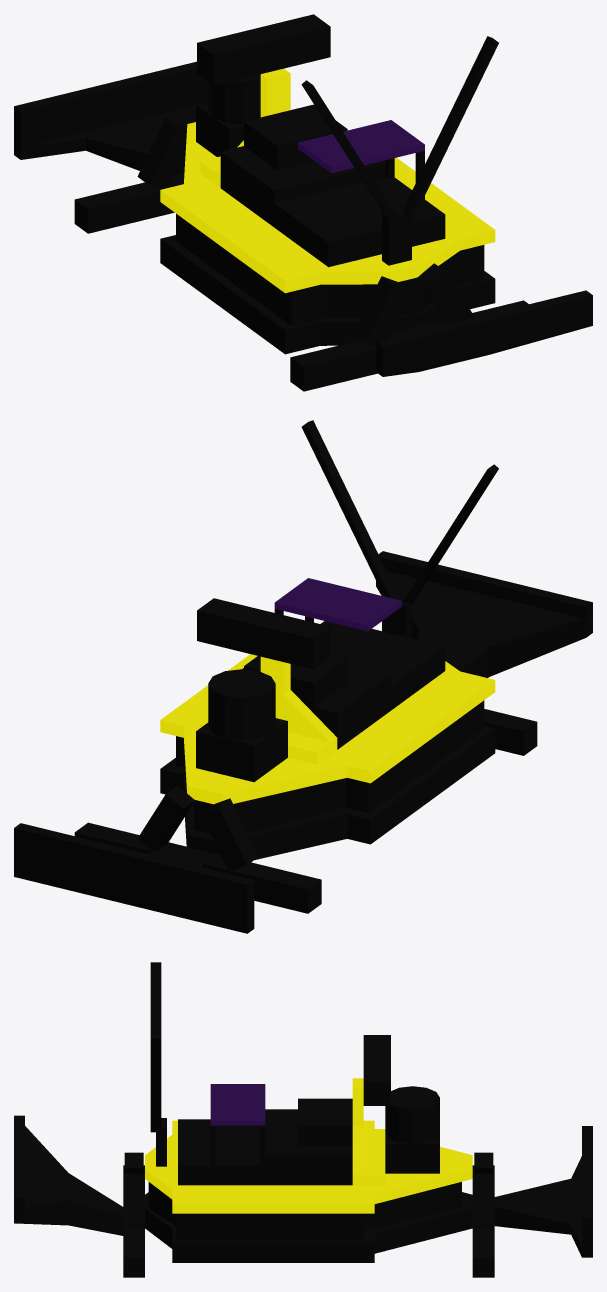
File: YellowCar.dae
The picture shows the model from 3 angles, top to bottom: view 1: azimuth 30°, elevation 25°; view 2: azimuth 150°, elevation 25°; view 3: azimuth 270°, elevation 25°; orthographic projection. The views are drawn at different scales.
Parts seen in each view (by area): view 1: Top Base Plate, VESC, Extension, Middle Plate, Bottom Base Plate, Camera, Cube, Bottom Piece, Base, Top Piece, Back Axle, Cooler (+11 smaller); view 2: Top Base Plate, Bottom Piece, Extension, Bottom Base Plate, Middle Plate, Camera, VESC, Front Axle, Circle, Powerboard, Top Piece, Cube (+12 smaller); view 3: Top Base Plate, Bottom Base Plate, Middle Plate, Bottom Piece, VESC, Cube, Base, Circle, Cooler, Powerboard, Camera, Cube.001 (+14 smaller).
Boxes of the visible parts, x1,y1,x2,y2 form: Top Base Plate: (160, 122, 495, 293); VESC: (274, 176, 445, 267); Extension: (14, 61, 208, 147); Middle Plate: (176, 213, 484, 325); Bottom Base Plate: (160, 235, 495, 354); Camera: (197, 14, 330, 85); Cube: (220, 146, 385, 227); Bottom Piece: (376, 307, 592, 376); Base: (14, 105, 195, 174); Top Piece: (376, 290, 592, 358); Back Axle: (290, 300, 528, 391); Cooler: (244, 104, 347, 170); Top Base Plate: (160, 654, 495, 804); Bottom Piece: (376, 571, 592, 677); Extension: (14, 823, 254, 921); Bottom Base Plate: (160, 726, 495, 859); Middle Plate: (176, 700, 484, 833); Camera: (197, 598, 330, 669); VESC: (320, 621, 445, 709); Front Axle: (74, 822, 321, 913); Circle: (208, 669, 275, 740); Powerboard: (274, 578, 401, 631); Top Piece: (378, 551, 592, 619); Cube: (242, 663, 391, 749); Top Base Plate: (145, 1120, 472, 1213); Bottom Base Plate: (145, 1192, 472, 1262); Middle Plate: (148, 1182, 461, 1239); Bottom Piece: (14, 1126, 123, 1235); VESC: (178, 1119, 265, 1185); Cube: (265, 1109, 352, 1185); Base: (494, 1156, 592, 1257); Circle: (385, 1086, 439, 1143); Cooler: (298, 1098, 352, 1146); Powerboard: (210, 1084, 265, 1125); Camera: (363, 1035, 390, 1105); Cube.001: (385, 1133, 439, 1173).
Size of the model in its own units: 0.2 by 0.53 by 0.2356.
